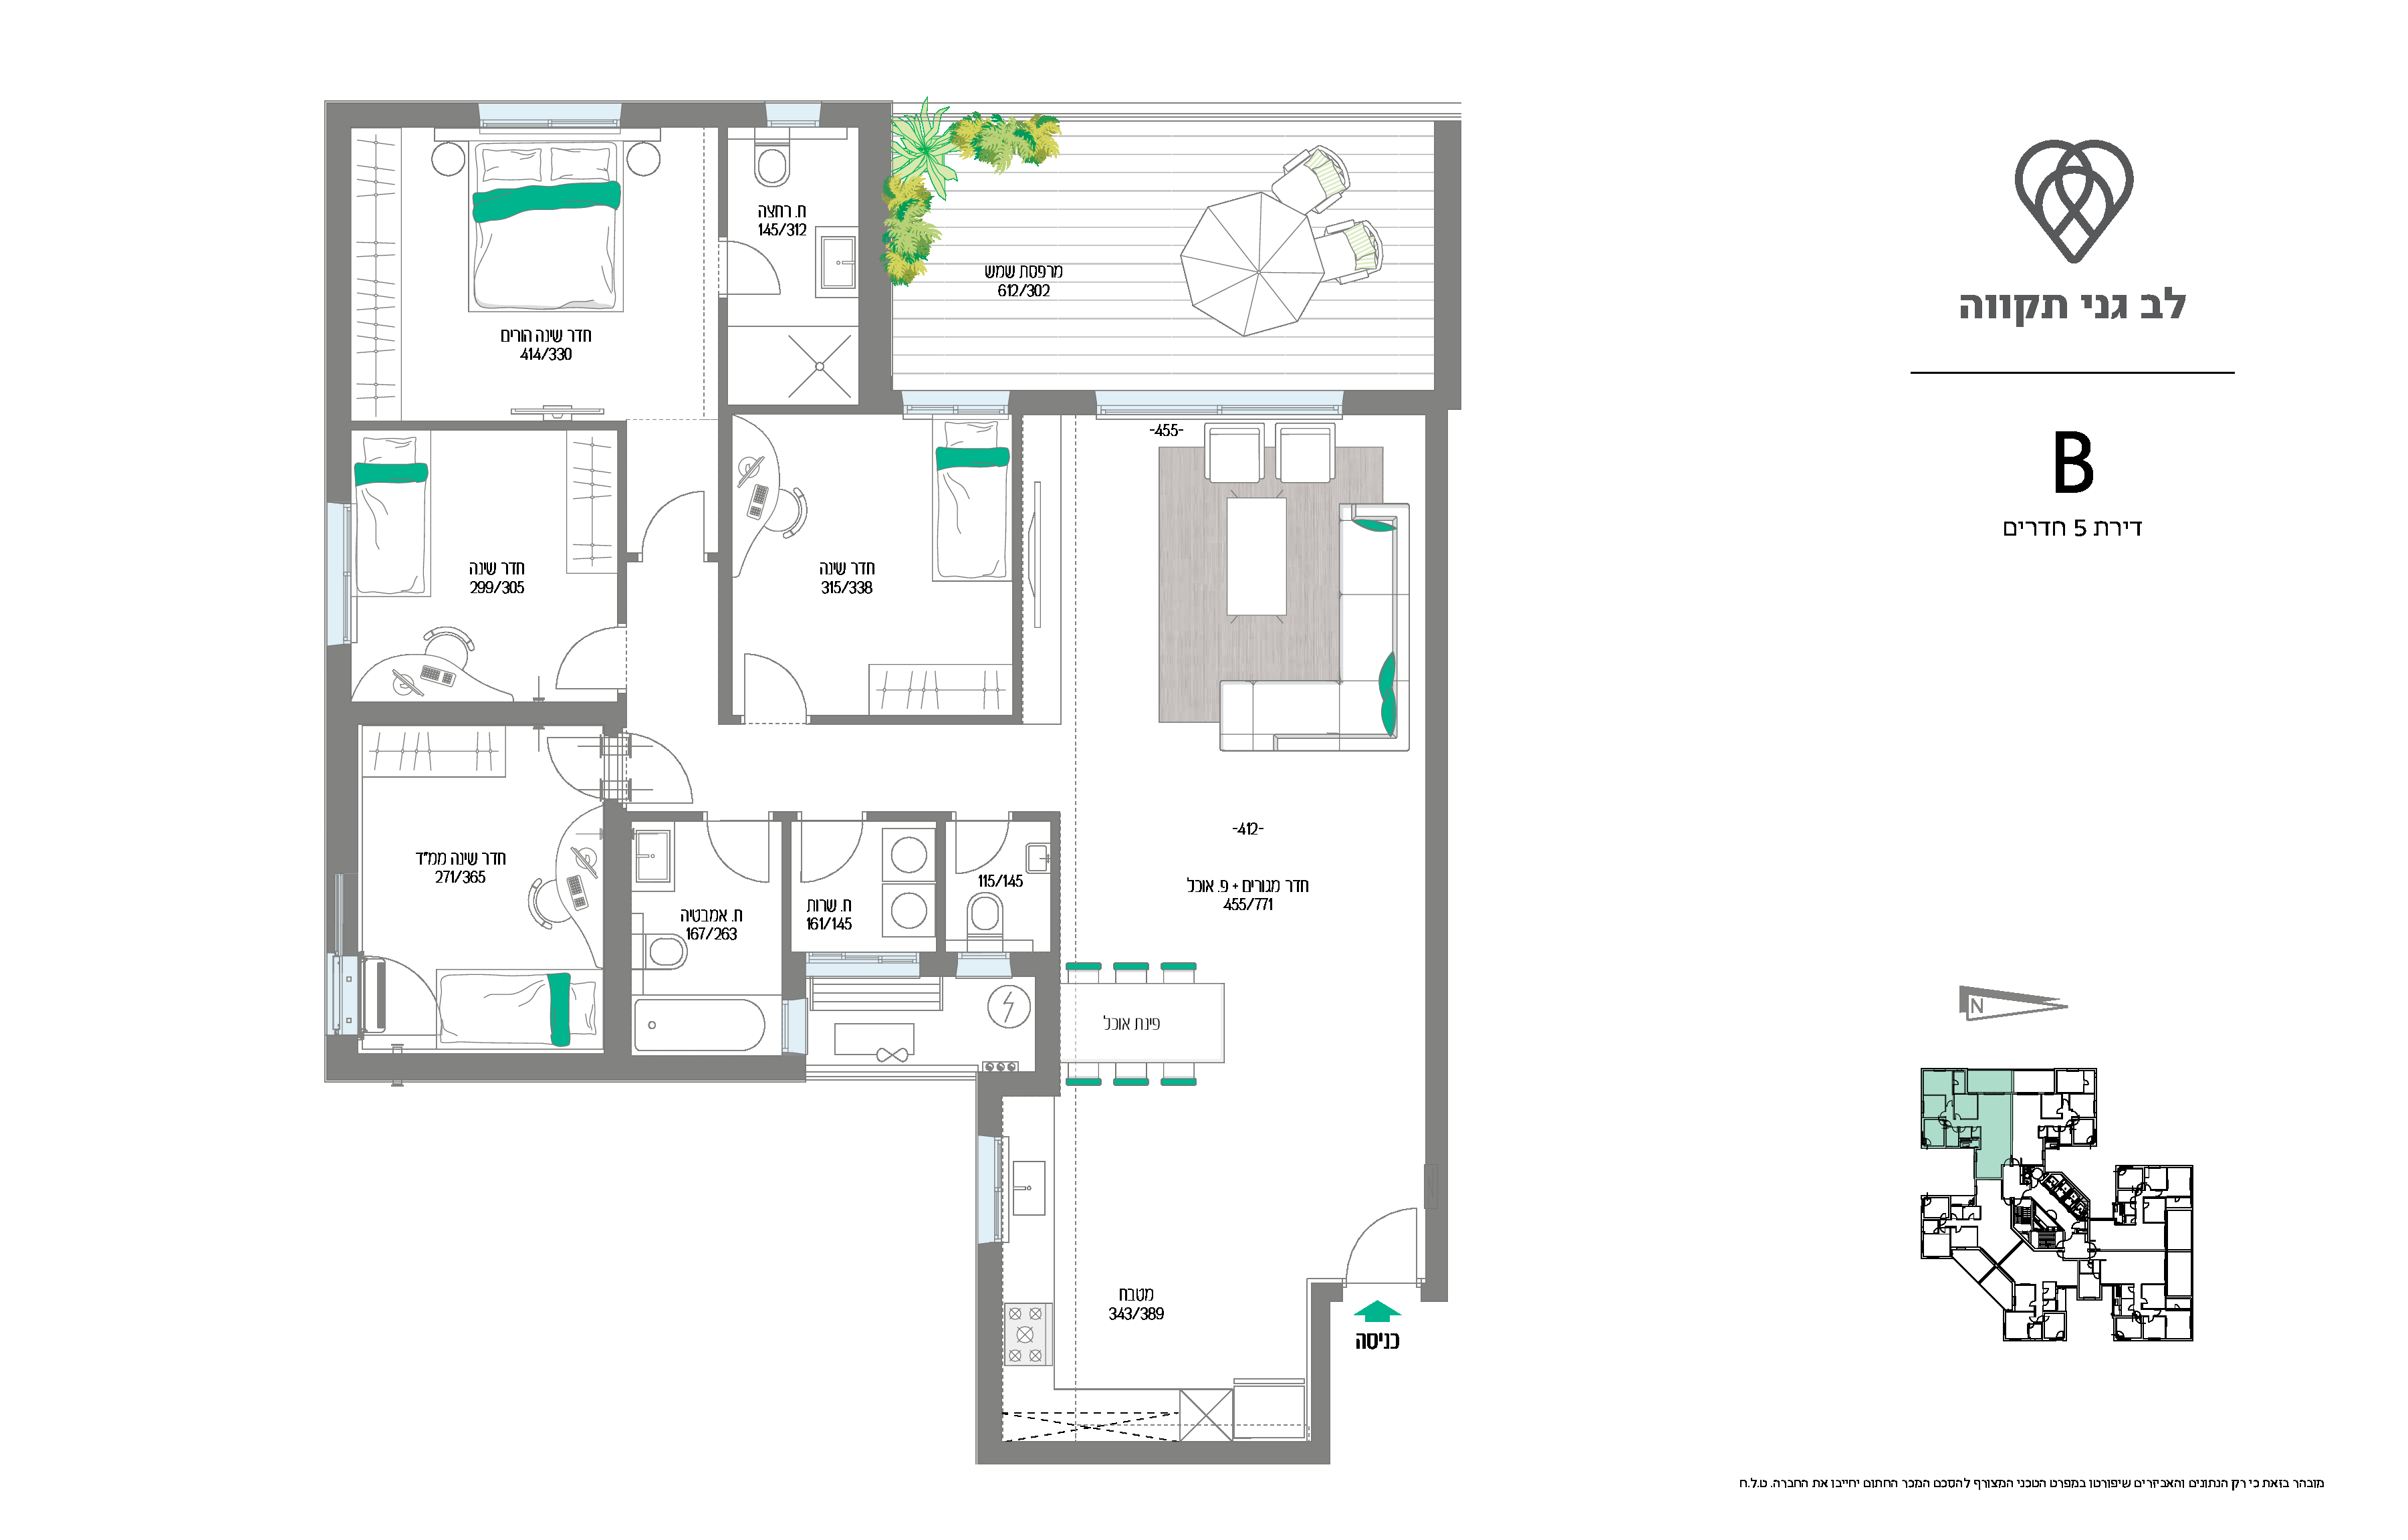door: (376, 950, 449, 1045), (699, 822, 774, 897), (948, 820, 1023, 896), (735, 641, 811, 716), (793, 822, 867, 897), (632, 732, 699, 810), (539, 732, 602, 810), (641, 485, 711, 553), (732, 235, 802, 302), (551, 622, 616, 694)
wall: (1425, 414, 1450, 1301), (328, 1052, 806, 1082), (325, 98, 351, 504), (860, 102, 890, 413), (1432, 119, 1462, 409), (978, 1245, 1004, 1466)
window: (1097, 390, 1343, 420), (325, 504, 351, 644), (479, 104, 620, 128), (974, 1136, 1006, 1245), (806, 952, 920, 980), (904, 390, 1007, 420), (957, 952, 1011, 980), (767, 102, 820, 126)
